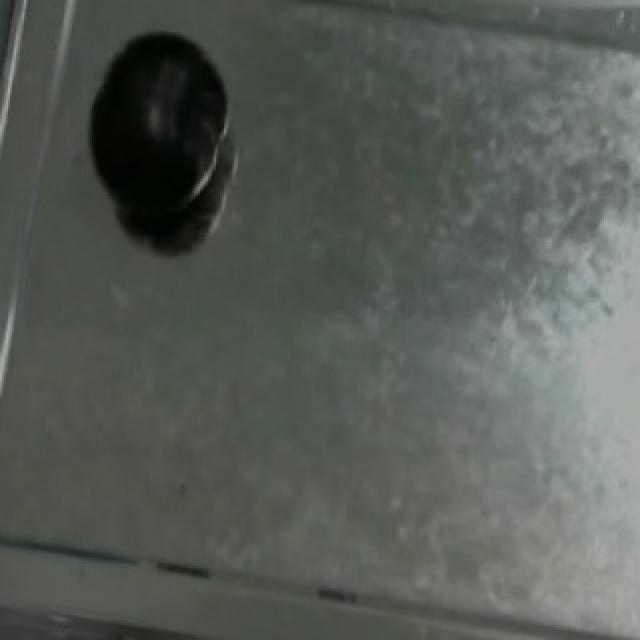Fruit: (74, 18, 236, 234)
